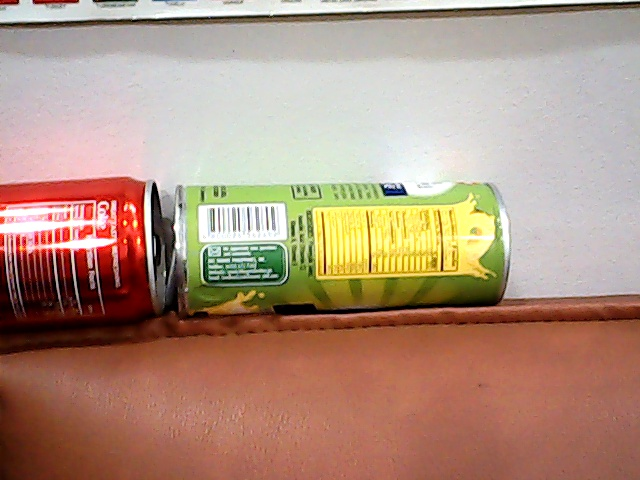Cola: (1, 151, 162, 331)
Pine Juice: (162, 172, 533, 326)
